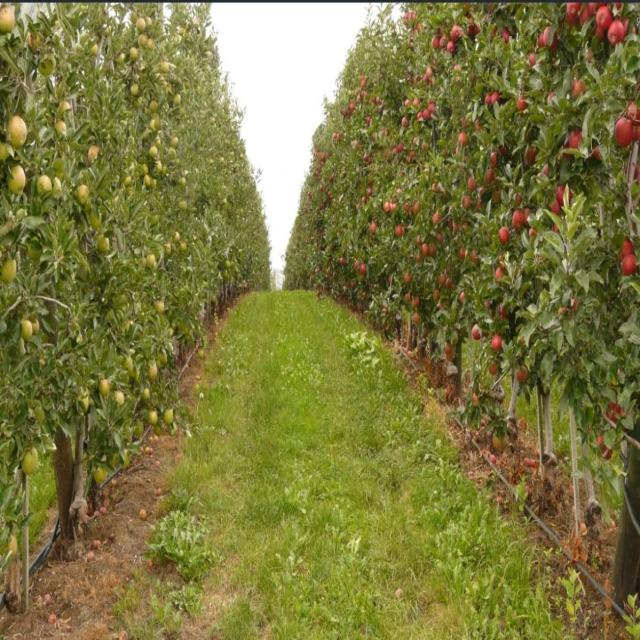row: (19, 280, 606, 640)
